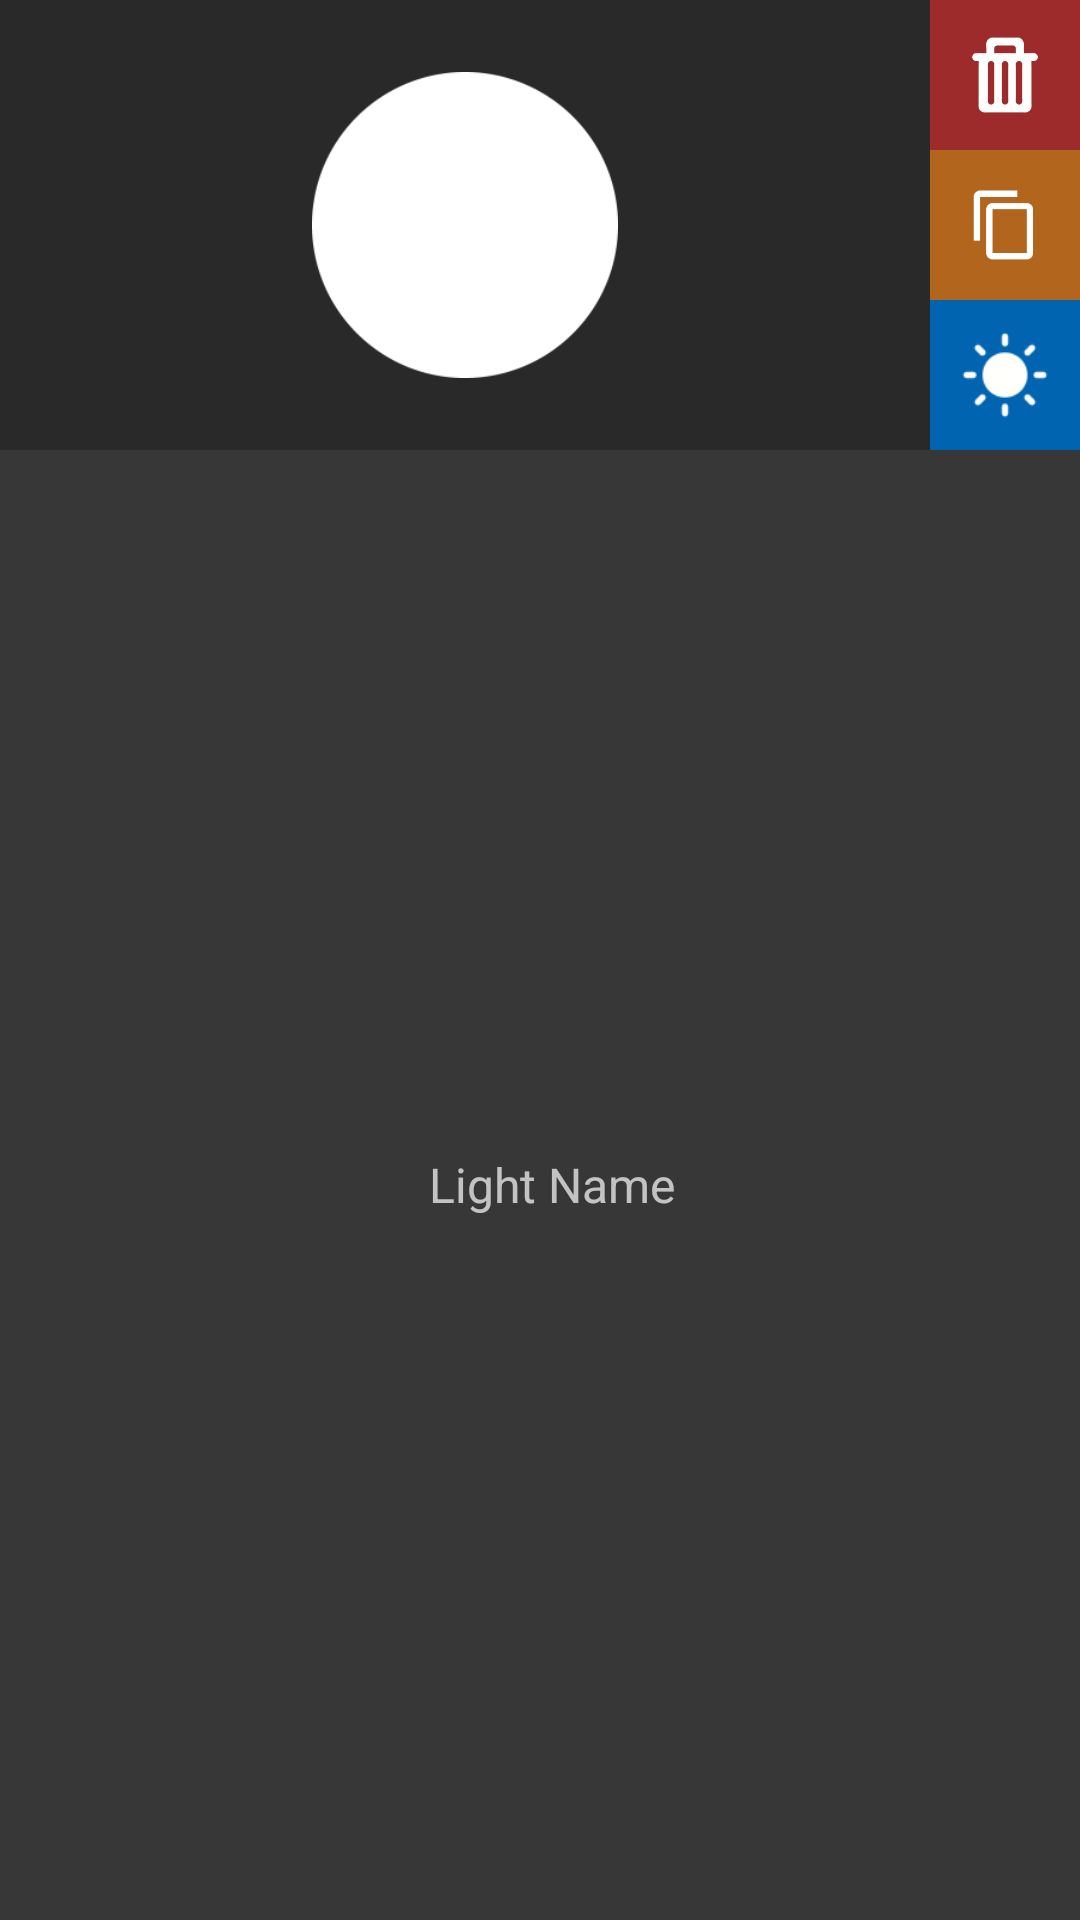

Icons on this 1080px×1920px Android screen, each with the point to tap as [x,y]:
delete: [1005,75]
duplicate: [1005,225]
